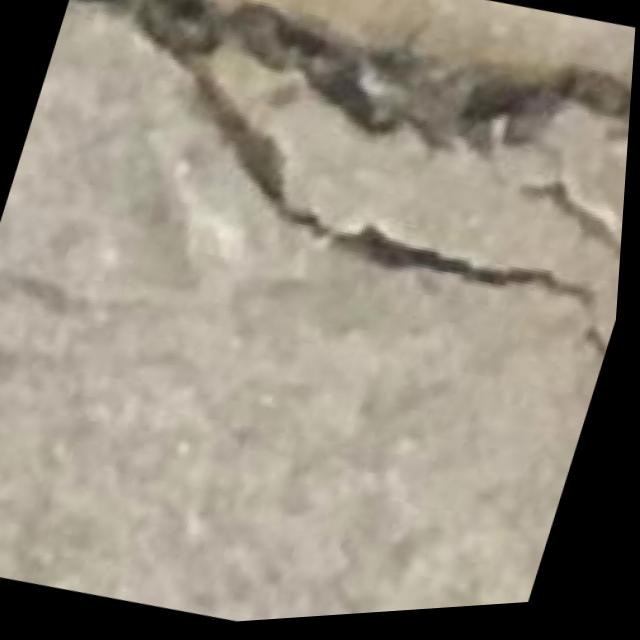Crack: (32, 0, 640, 338)
